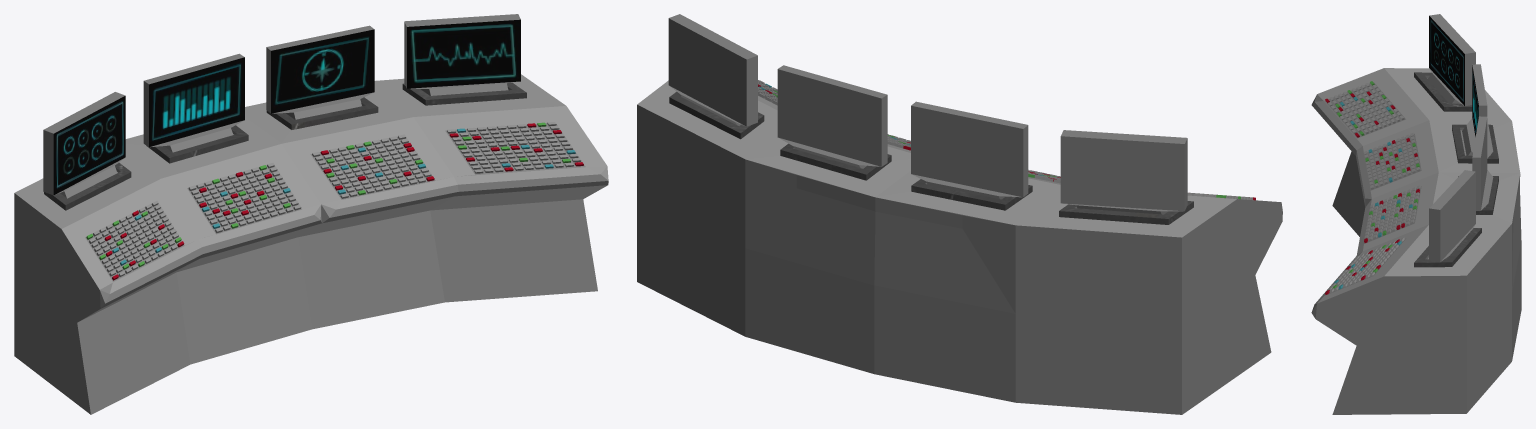
File: MesaControol.fbx
The picture shows the model from 3 angles, left to right: view 1: azimuth 30°, elevation 25°; view 2: azimuth 150°, elevation 25°; view 3: azimuth 270°, elevation 25°; orthographic projection. The views are drawn at different scales.
Parts seen in each view (by area): view 1: Cube.001; view 2: Cube.001; view 3: Cube.001.
Part boxes in pixels (<box>): Cube.001: <box>14,14,608,414</box>; Cube.001: <box>637,14,1282,414</box>; Cube.001: <box>1311,14,1521,414</box>.
Size of the model in its own units: 651 by 289 by 276.
Materials: 8 (2 with a texture image).
